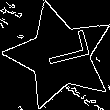L_W: (31, 35, 89, 77)
